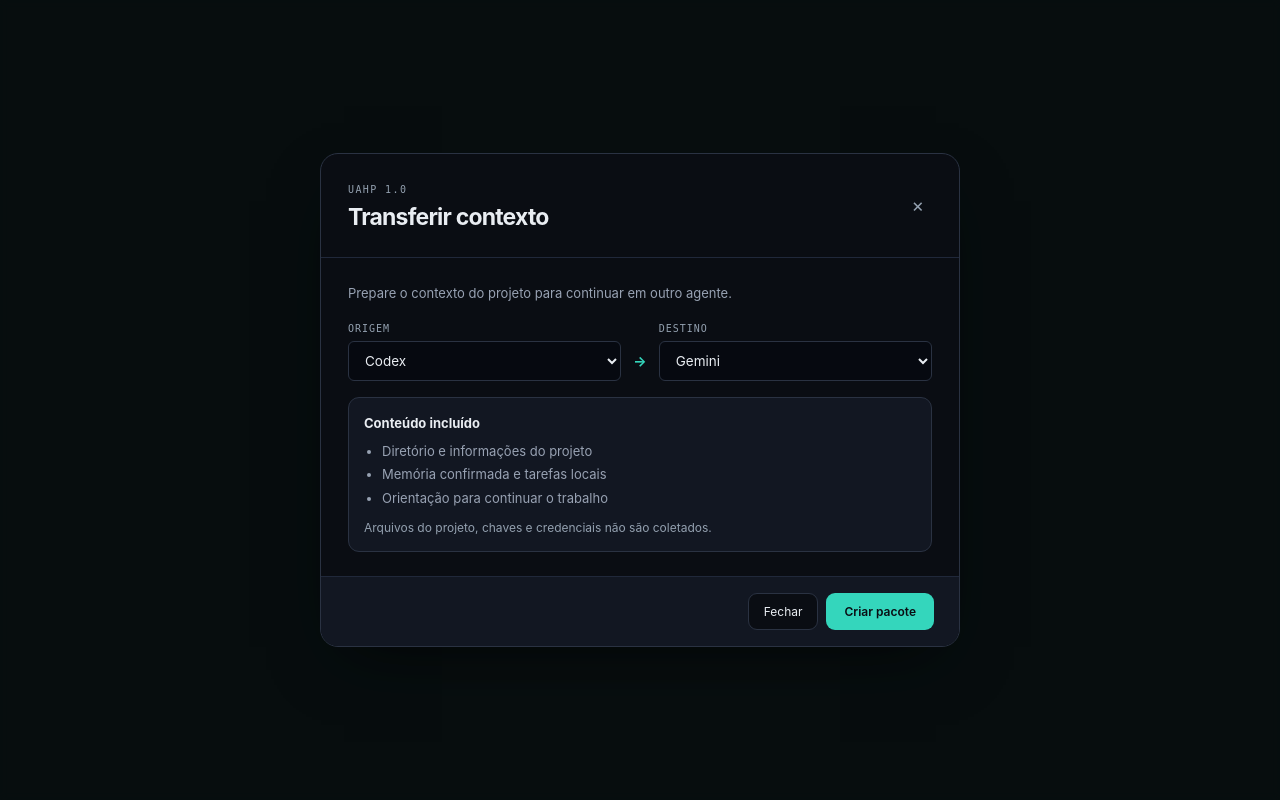
Scenario: transferência explícita › seleciona uma rota válida, permite revisar/copiar e não transmite automaticamente
The width and height of the screenshot is (1280, 800).
Later steps or results of the test are not shown.
Check: the dropdown labelled "Destino" shows "Gemini", box [659,341,932,381]
Click the button "Criar pacote": (880, 612) [826,593,934,630]
(page scrolled)
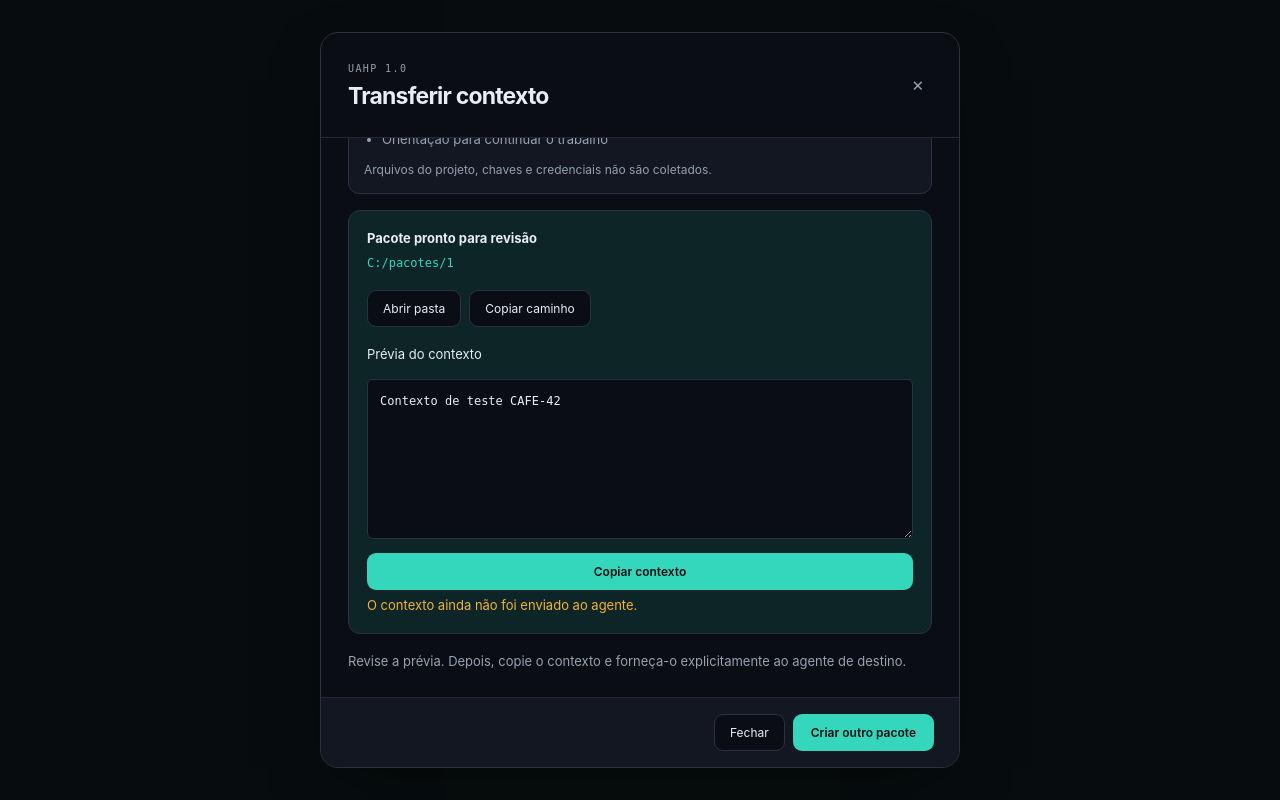
Check: the button "Copiar contexto" is shown, box [367,553,913,590]
Check: the text "O contexto ainda não foi enviado ao agente." is shown, box [367,597,637,613]
